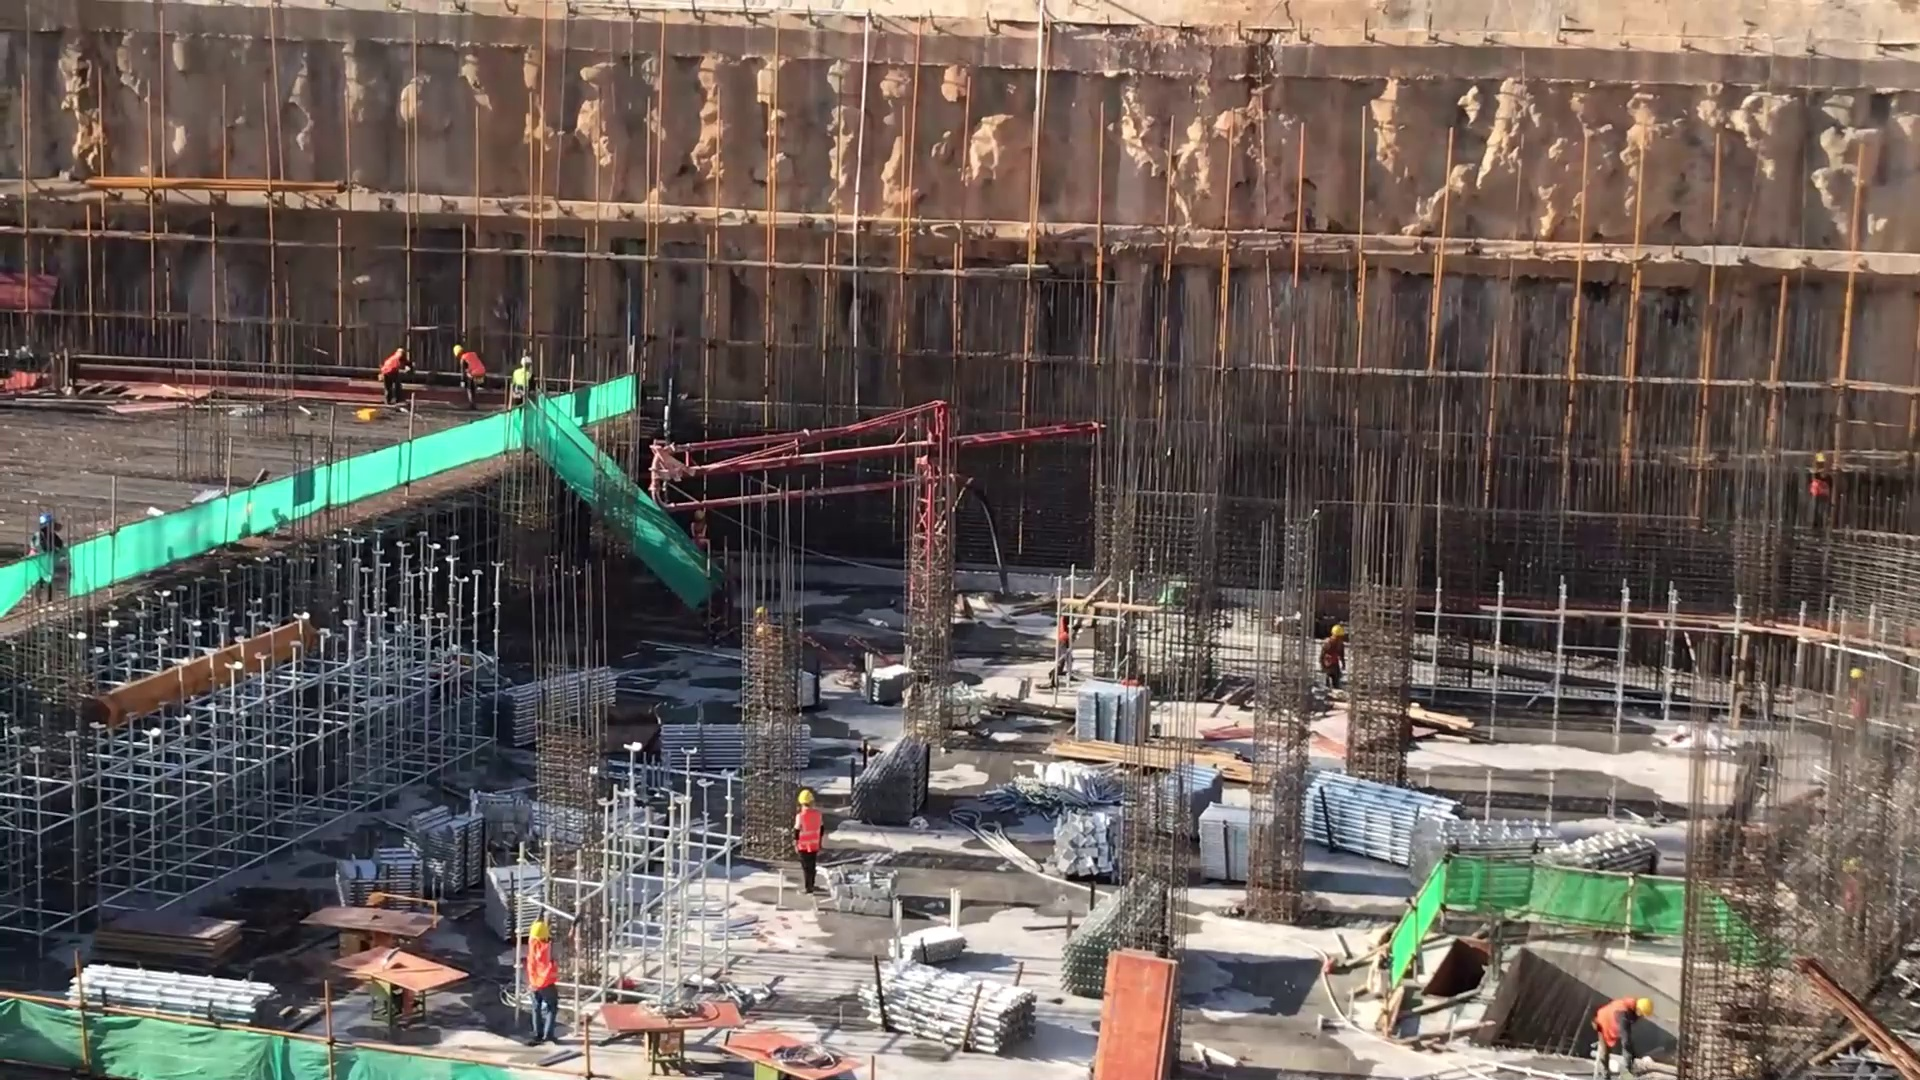cutter: (599, 988, 751, 1074), (342, 942, 471, 1028), (297, 896, 446, 960), (718, 1021, 858, 1080)
helmet: (526, 920, 556, 945), (1635, 994, 1657, 1020), (1807, 448, 1830, 471), (1324, 621, 1349, 639), (796, 787, 816, 806), (391, 345, 407, 361), (452, 340, 464, 359), (693, 506, 707, 522), (517, 353, 533, 367)
person: (517, 916, 572, 1049), (1584, 987, 1662, 1080), (787, 785, 832, 898), (446, 336, 494, 414), (372, 341, 419, 410), (1801, 443, 1837, 533), (1315, 620, 1354, 695), (504, 349, 544, 411), (687, 509, 714, 555)
scaffold: (856, 952, 1044, 1064), (1302, 765, 1461, 870), (58, 960, 292, 1031), (1402, 809, 1558, 901), (484, 668, 631, 743), (845, 730, 940, 830), (327, 838, 437, 922), (640, 707, 756, 783), (1061, 893, 1132, 1004), (1540, 826, 1666, 886), (1069, 667, 1155, 752), (415, 809, 490, 893), (1198, 799, 1260, 885), (489, 860, 545, 941)
vest: (1594, 995, 1637, 1044), (526, 939, 560, 989), (792, 808, 826, 856), (1318, 639, 1352, 670), (509, 365, 537, 397), (460, 350, 487, 381), (1809, 464, 1832, 497), (377, 351, 403, 378), (692, 520, 714, 553)
